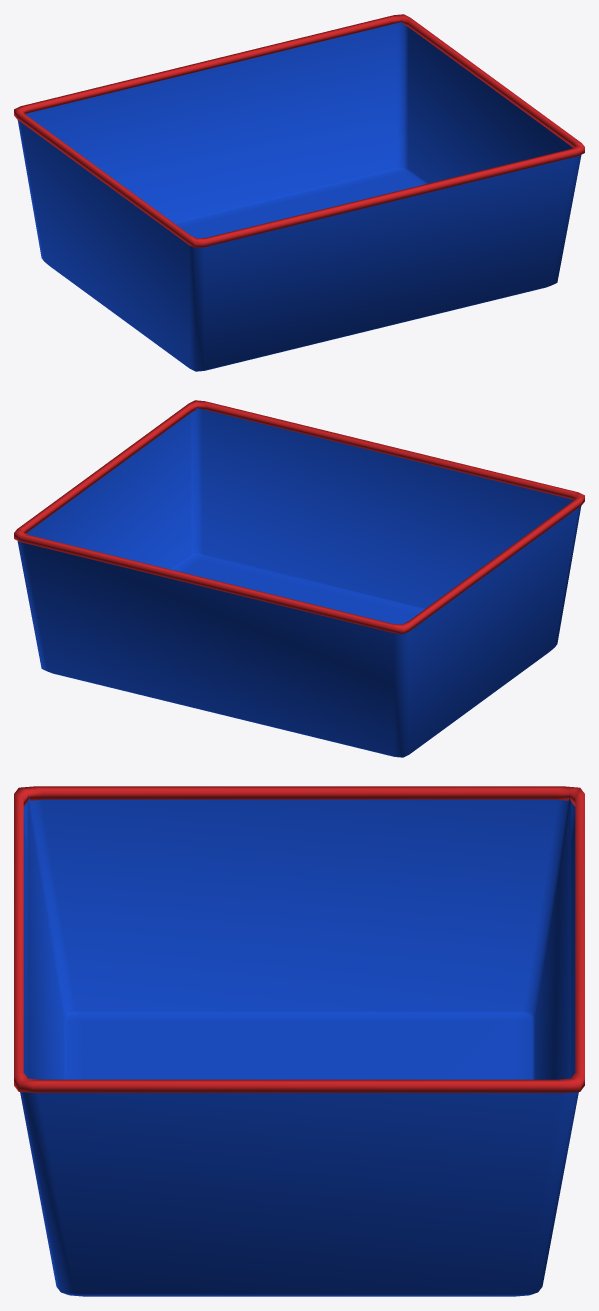
Rendered from MOD_FUR_Closet_02_Drawer_02.fbx.
3 renders of one model, top to bottom at view 1: azimuth 30°, elevation 25°; view 2: azimuth 150°, elevation 25°; view 3: azimuth 270°, elevation 25°, orthographic. The views are drawn at different scales.
Visible parts, largest first — view 1: MOD_FUR_Closet_02_Drawer_02; view 2: MOD_FUR_Closet_02_Drawer_02; view 3: MOD_FUR_Closet_02_Drawer_02.
Part boxes in pixels (box(x1,y1,x2,y2)): MOD_FUR_Closet_02_Drawer_02: box(14, 14, 584, 371); MOD_FUR_Closet_02_Drawer_02: box(14, 400, 584, 757); MOD_FUR_Closet_02_Drawer_02: box(14, 786, 584, 1296).
Bounding box in the file's own units: 0.5654 × 0.2004 × 0.4593.
